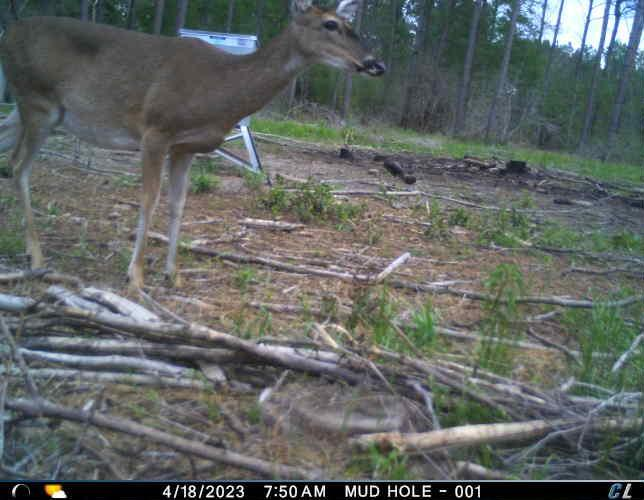Deer: (0, 0, 389, 299)
